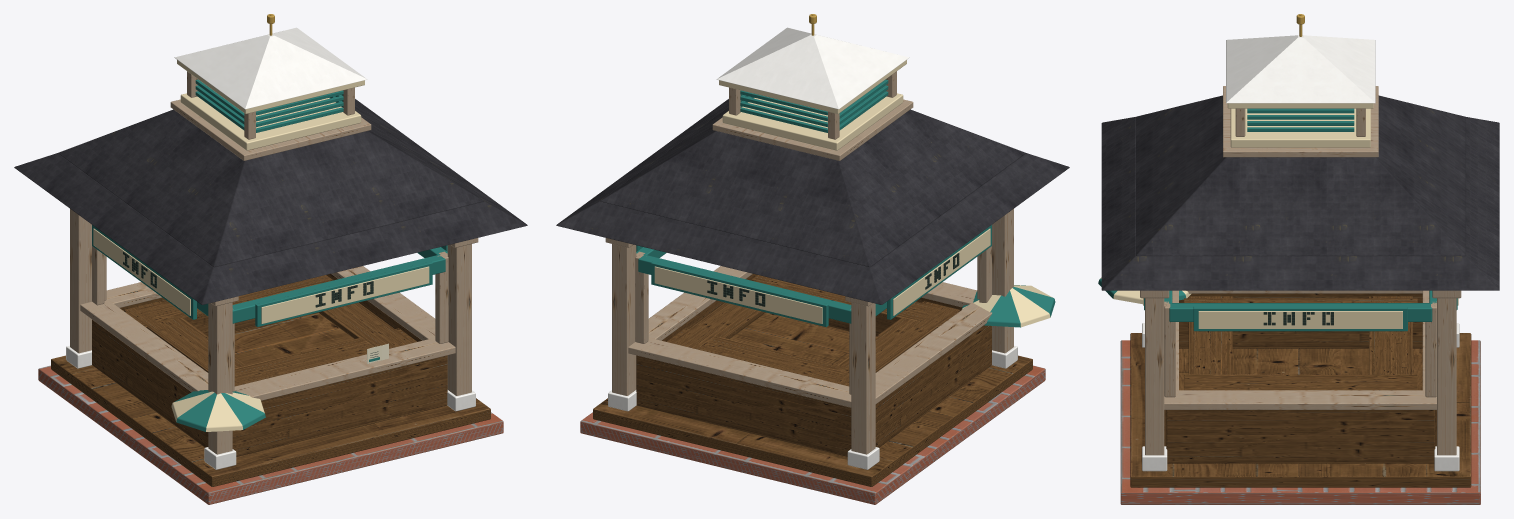
Rendered from information-kiosk.glb.
The picture shows the model from 3 angles, left to right: view 1: azimuth 30°, elevation 25°; view 2: azimuth 150°, elevation 25°; view 3: azimuth 270°, elevation 25°; orthographic projection. The views are drawn at different scales.
Visible parts, largest first — view 1: Static_GroundRoot_roof, Plinth_SteppedDeck, Static_Facade_Front_boards.001, Static_GroundRoot_timber.001, Static_GroundRoot_metal, Plinth_Foundation, Static_Facade_Left_boards.001, Static_Facade_Front_timber.001, Static_Facade_Left_timber.001, Static_GroundRoot_cream, Static_Facade_Front_paint_teal, SignBorder_Front (+10 smaller); view 2: Static_GroundRoot_roof, Plinth_SteppedDeck, Static_Facade_Back_boards.001, Static_GroundRoot_timber.001, Static_GroundRoot_metal, Plinth_Foundation, Static_Facade_Left_boards.001, Static_Facade_Back_timber.001, Static_GroundRoot_cream, Static_Facade_Left_timber.001, Static_Facade_Back_paint_teal, SignBorder_Back (+10 smaller); view 3: Static_GroundRoot_roof, Static_Facade_Right_boards.001, Plinth_SteppedDeck, Static_GroundRoot_metal, Static_GroundRoot_timber.001, Plinth_Foundation, Static_Facade_Right_timber.001, Static_Facade_Left_boards.001, Static_GroundRoot_cream, Static_Facade_Right_paint_teal, SignBorder_Right, Static_Facade_Front_boards.001 (+4 smaller).
Part boxes in pixels (x1,y1,x2,y2): Static_GroundRoot_roof: [14, 99, 527, 304]; Plinth_SteppedDeck: [51, 312, 490, 486]; Static_Facade_Front_boards.001: [232, 328, 447, 456]; Static_GroundRoot_timber.001: [70, 71, 478, 454]; Static_GroundRoot_metal: [66, 27, 475, 469]; Plinth_Foundation: [38, 365, 503, 504]; Static_Facade_Left_boards.001: [92, 301, 247, 447]; Static_Facade_Front_timber.001: [232, 255, 455, 400]; Static_Facade_Left_timber.001: [80, 246, 208, 392]; Static_GroundRoot_cream: [177, 60, 364, 150]; Static_Facade_Front_paint_teal: [232, 255, 445, 327]; SignBorder_Front: [261, 266, 429, 323]; Static_GroundRoot_roof: [556, 99, 1069, 304]; Plinth_SteppedDeck: [593, 312, 1032, 486]; Static_Facade_Back_boards.001: [636, 328, 851, 456]; Static_GroundRoot_timber.001: [605, 71, 1013, 454]; Static_GroundRoot_metal: [608, 27, 1017, 469]; Plinth_Foundation: [580, 365, 1045, 504]; Static_Facade_Left_boards.001: [834, 301, 991, 447]; Static_Facade_Back_timber.001: [628, 255, 851, 407]; Static_GroundRoot_cream: [719, 60, 906, 150]; Static_Facade_Left_timber.001: [875, 246, 991, 403]; Static_Facade_Back_paint_teal: [638, 255, 851, 327]; SignBorder_Back: [654, 266, 822, 323]; Static_GroundRoot_roof: [1101, 95, 1499, 290]; Static_Facade_Right_boards.001: [1166, 374, 1435, 463]; Plinth_SteppedDeck: [1130, 333, 1471, 487]; Static_GroundRoot_metal: [1142, 35, 1459, 471]; Static_GroundRoot_timber.001: [1140, 86, 1461, 455]; Plinth_Foundation: [1120, 340, 1480, 504]; Static_Facade_Right_timber.001: [1164, 304, 1436, 409]; Static_Facade_Left_boards.001: [1179, 293, 1422, 348]; Static_GroundRoot_cream: [1227, 103, 1373, 147]; Static_Facade_Right_paint_teal: [1169, 303, 1432, 331]; SignBorder_Right: [1198, 311, 1402, 328]; Static_Facade_Front_boards.001: [1164, 296, 1232, 446].
Size of the model in its own units: 4.12 by 4.7 by 4.12.
Materials: 10 (5 with a texture image).
